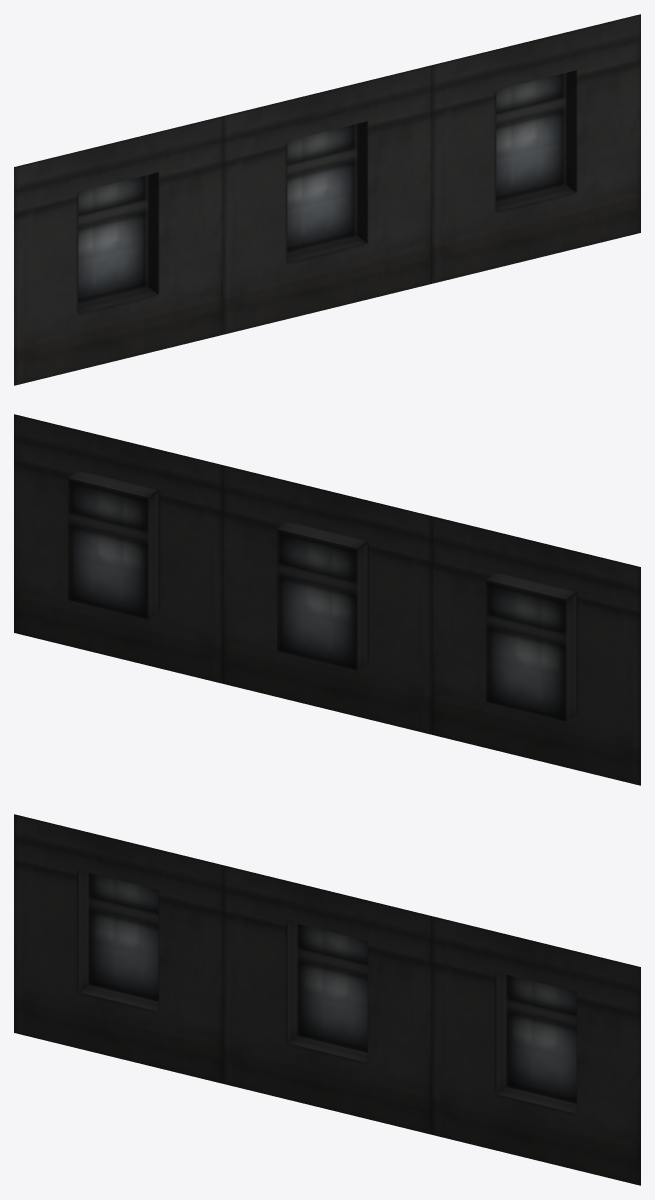
The model's file is B9_WindowA3x.FBX.
The picture shows the model from 3 angles, top to bottom: view 1: azimuth 30°, elevation 25°; view 2: azimuth 150°, elevation 25°; view 3: azimuth 330°, elevation 25°; orthographic projection.
Visible parts, largest first — view 1: B9_WindowA3x; view 2: B9_WindowA3x; view 3: B9_WindowA3x.
Boxes of the visible parts, x1,y1,x2,y2 form: B9_WindowA3x: [14, 14, 640, 385]; B9_WindowA3x: [14, 414, 640, 785]; B9_WindowA3x: [14, 814, 640, 1185].
Size of the model in its own units: 12 by 4 by 0.3451.
